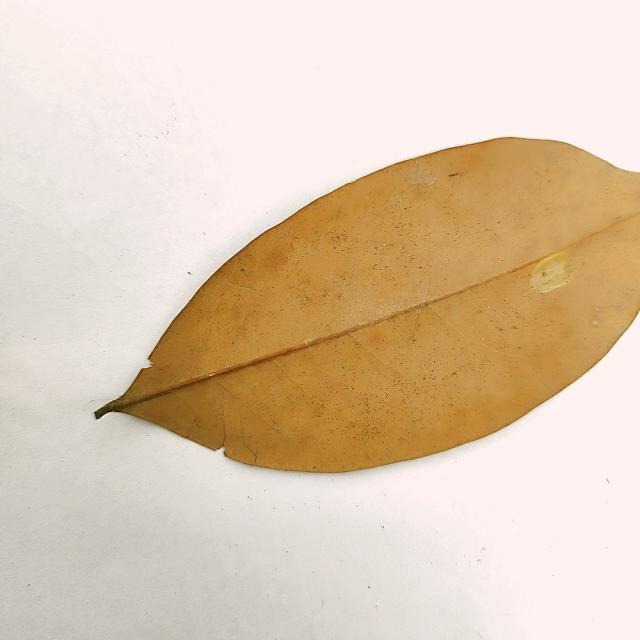Dry_Leaf-Lychee: (94, 138, 639, 477)
